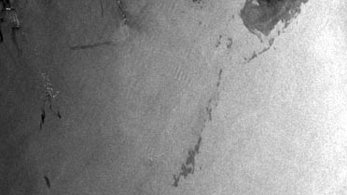anomaly: (234, 1, 320, 60)
